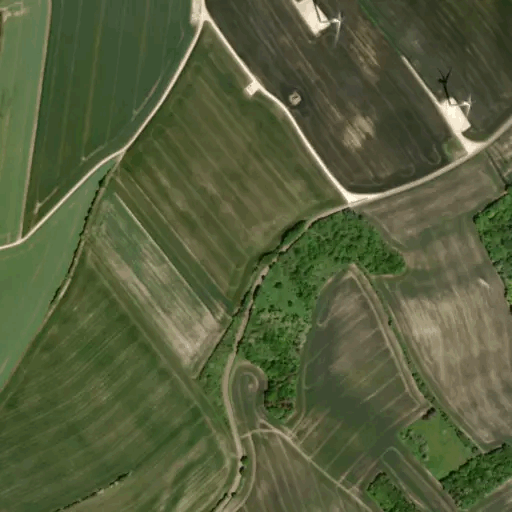wt: (431, 67, 476, 119), (309, 6, 346, 44)
